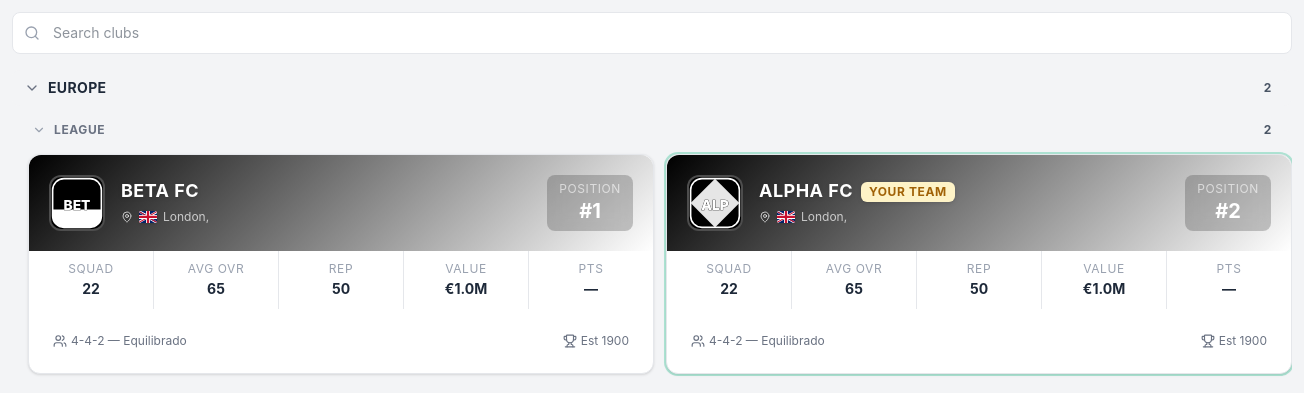
TeamsListTab › filters clubs by name via the search box
The image size is (1304, 393).
expect the heading "Alpha FC Your Team" is shown: met, box [759, 180, 955, 202]
In the field with placeholder "Search clubs": {"x": 652, "y": 33} [12, 12, 1292, 54], type "beta"
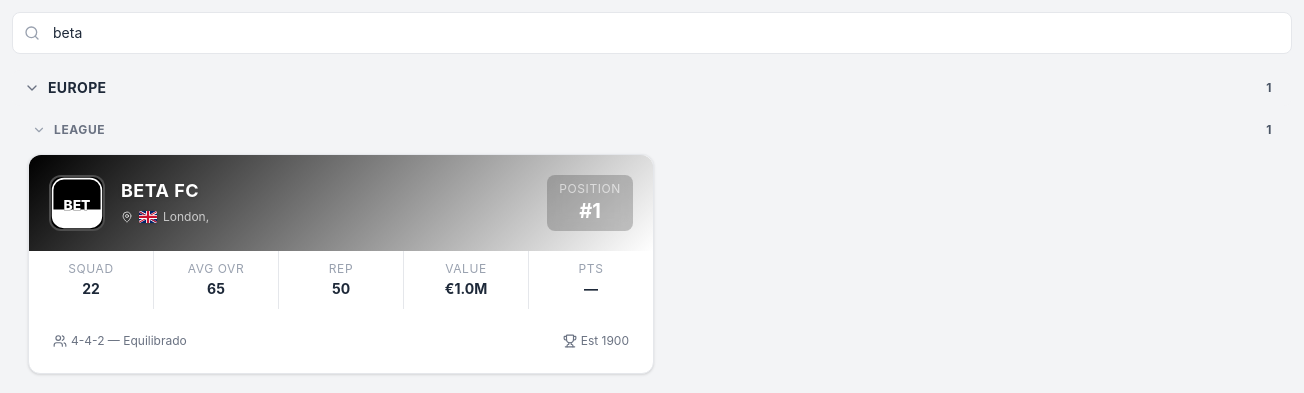
expect the heading "Beta FC" is shown: met, box [121, 180, 199, 201]
expect the heading "Alpha FC" is gone: met
